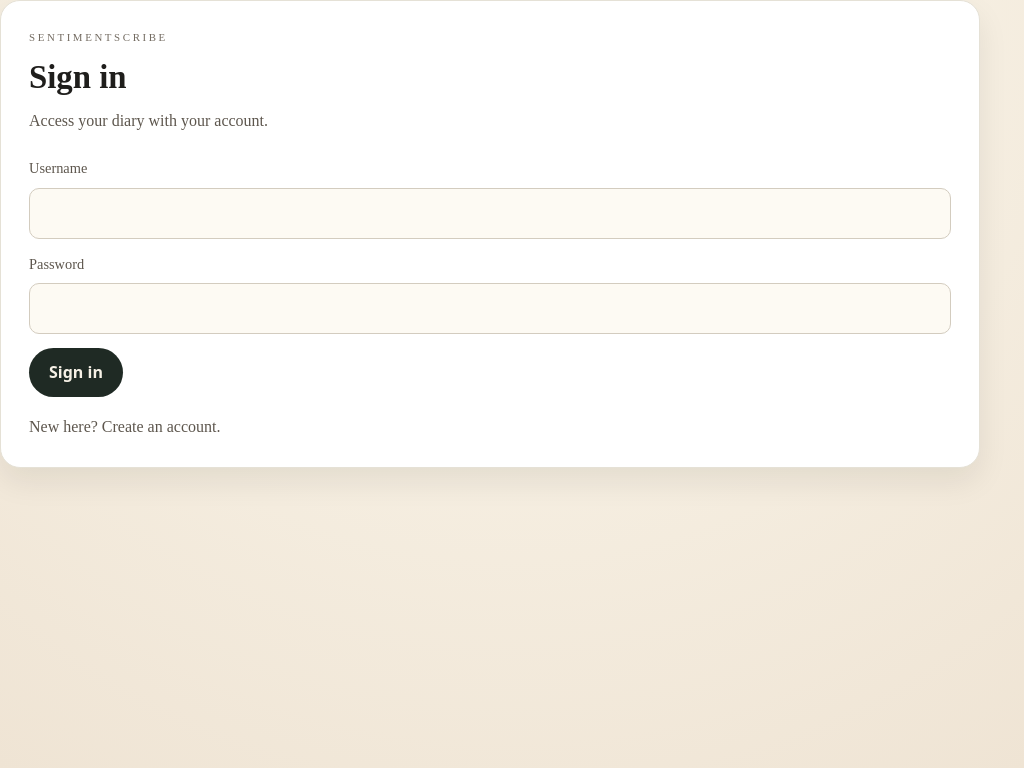
Test: LoginPage › shows backend error when login fails
Type "demo" into the field labelled "Username" at [490, 213], box [29,188,951,239]
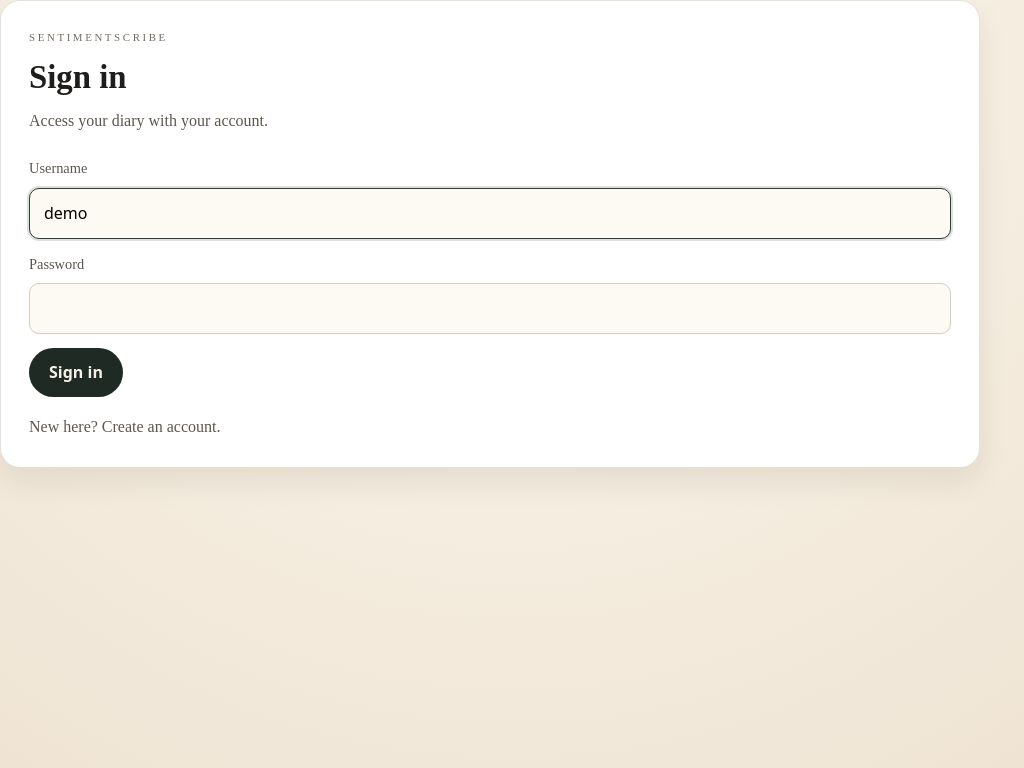
Type "bad" into the password field labelled "Password" at [490, 308], box [29,283,951,334]
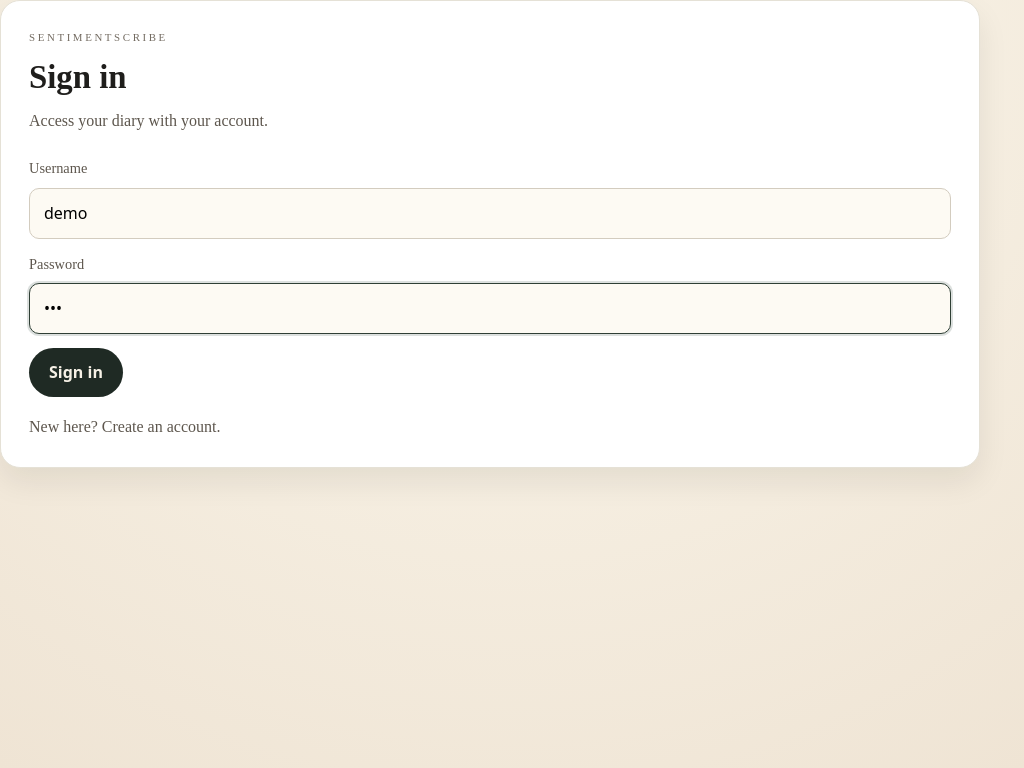
Click the button "Sign in" at [76, 372], box [29,348,123,396]
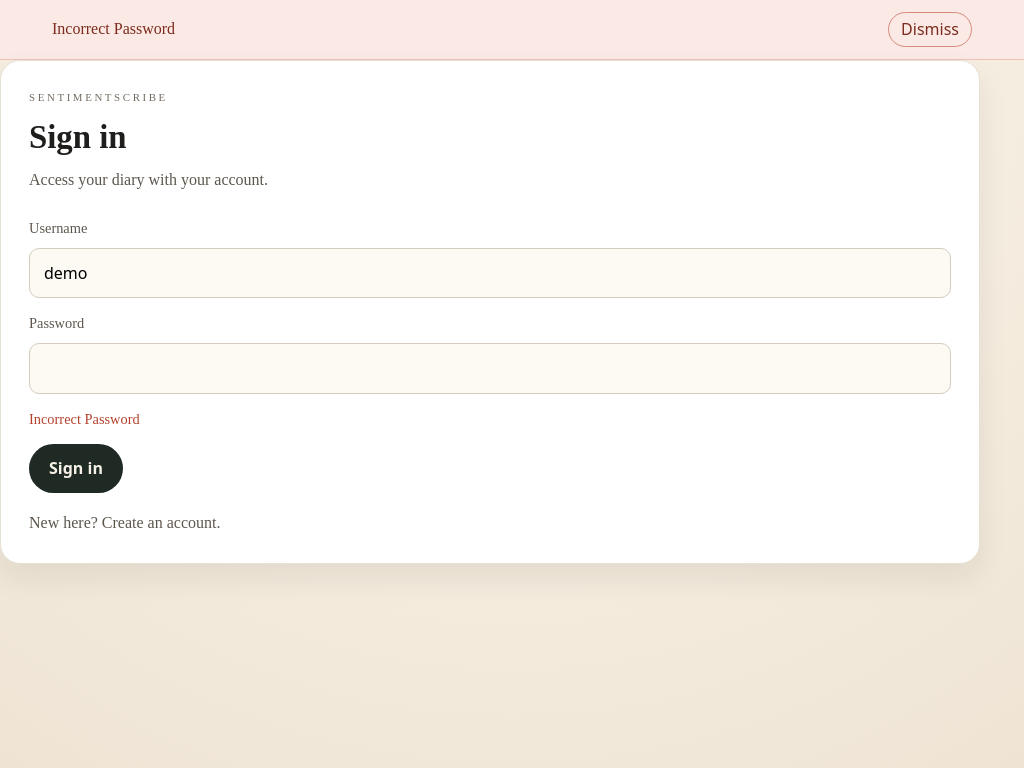
Expected: the text "Incorrect Password" is shown 2 times, [52,17,175,42]; [29,410,140,426]
